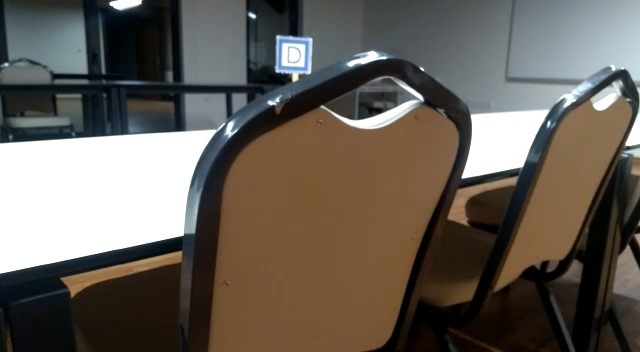durak: (274, 33, 311, 75)
